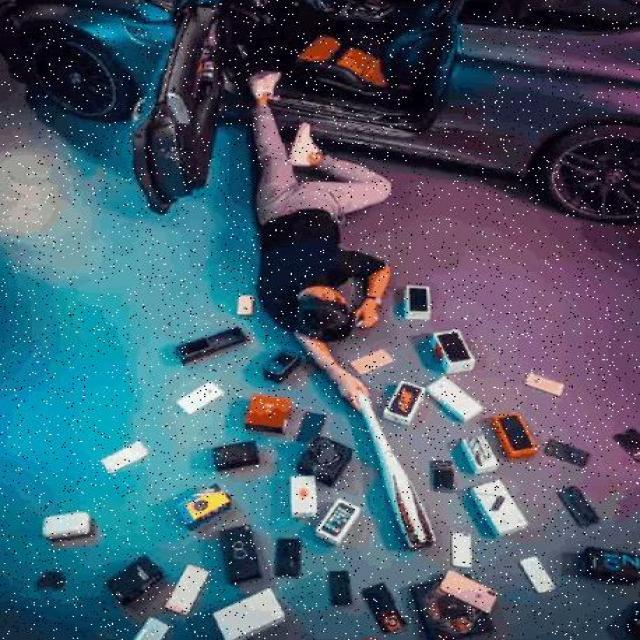fall: (234, 70, 392, 387)
